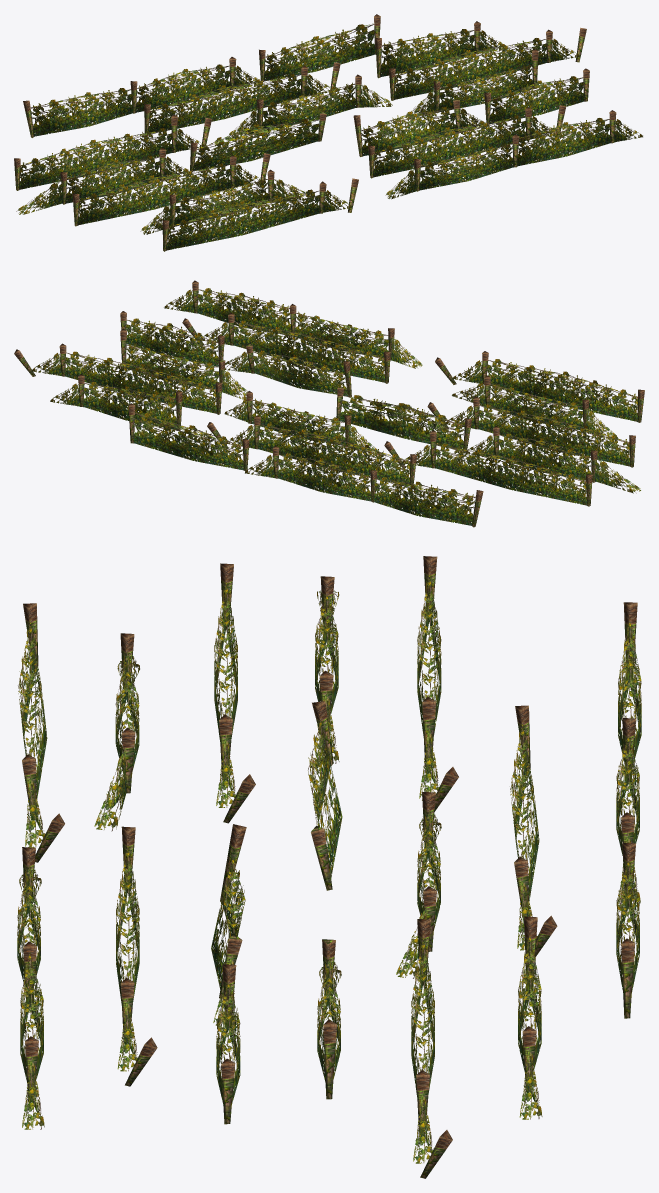
Rendered from elwynnvineyard01.obj.
3 views of the same model, one above another, from view 1: azimuth 30°, elevation 25°; view 2: azimuth 150°, elevation 25°; view 3: azimuth 270°, elevation 25° (orthographic). The views are drawn at different scales.
Size of the model in its own units: 38.24 by 2.84 by 17.38.
Materials: 1 (1 with a texture image).
